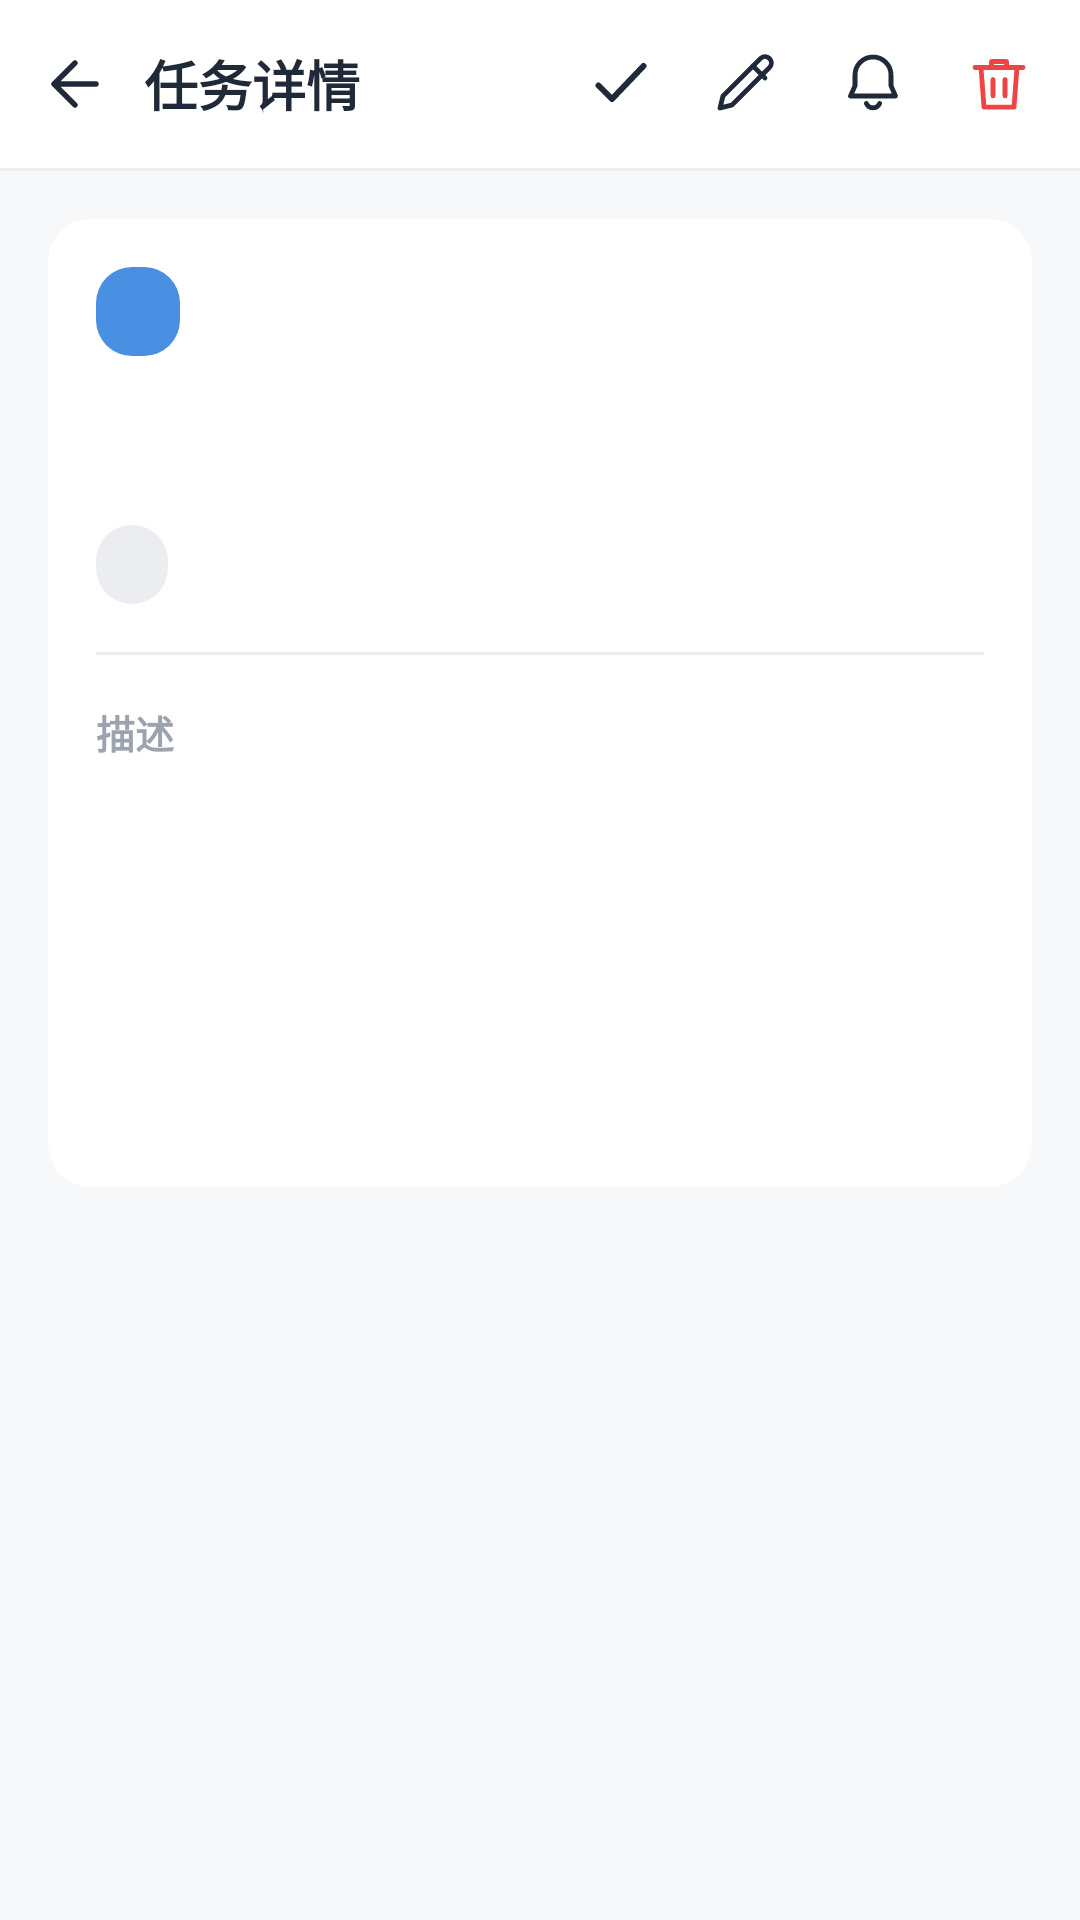

Icon click points for this 1080x1920 phone screenshot, format (x=x, y=y):
你确定要删除该任务吗: (x=999, y=84)
已完成: (x=621, y=82)
编辑任务: (x=745, y=82)
